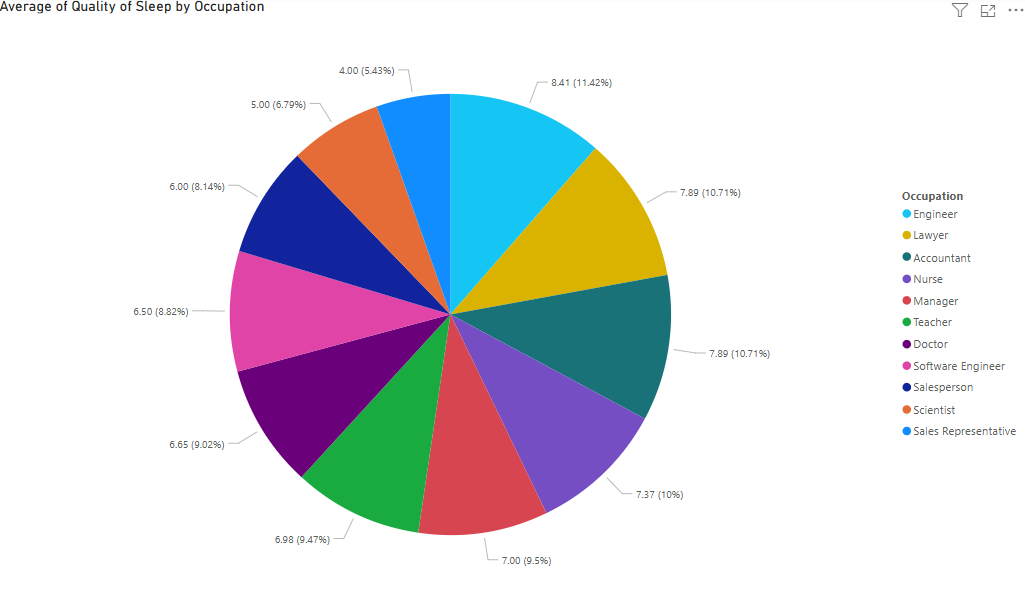

The page's visual inventory and layout, read from the dashboard file:
{"tool":"powerbi","page":{"name":"Page 1","canvas":[1280,720],"ordinal":4},"visuals":[{"type":"pieChart","fields":{"Category":["Good.Occupation"],"Y":["Avg(Good.Quality of Sleep)"]},"box":[10,0,1203.3,720],"z":0}]}

Visuals, with their boxes on the page's 1280x720 design canvas (x1, y1, x2, y2). These are canvas units, not pixel positions in the 1025x602 screenshot, which may show the page scaled, cropped or inside an application window:
pieChart - Good.Occupation x Avg(Good.Quality of Sleep): {"left": 10, "top": 0, "right": 1213, "bottom": 720}
